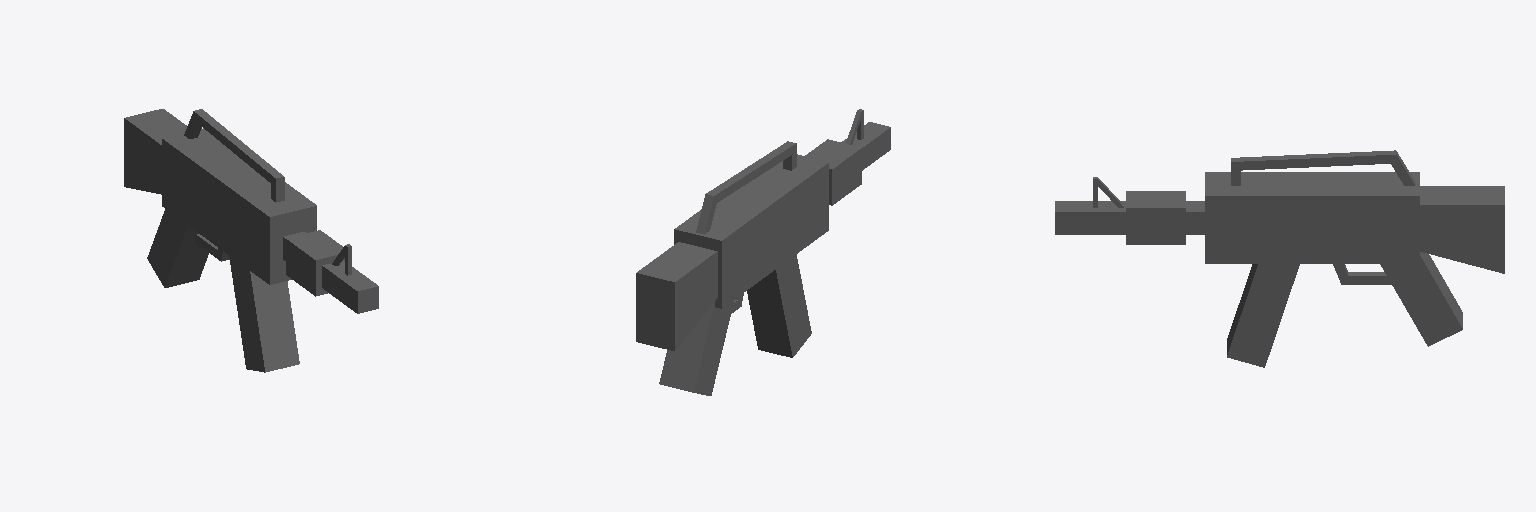
3 views of the same model, side by side, from view 1: azimuth 30°, elevation 25°; view 2: azimuth 150°, elevation 25°; view 3: azimuth 270°, elevation 25° (orthographic).
Visible parts, largest first — view 1: Cube.013; view 2: Cube.013; view 3: Cube.013.
Part boxes in pixels (left/top/right/bottom): Cube.013: left=124, top=109, right=378, bottom=372; Cube.013: left=636, top=109, right=890, bottom=395; Cube.013: left=1055, top=150, right=1504, bottom=367.
Bounding box in the file's own units: 0.22 × 0.9138 × 1.8.
Materials: 1 (1 with a texture image).